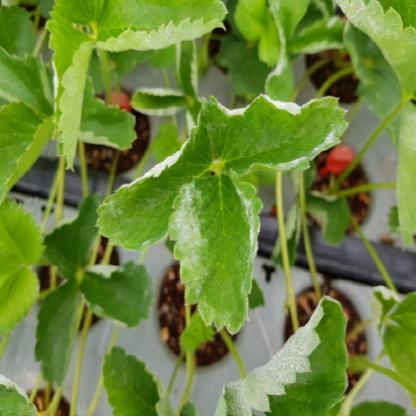Strawberry_Powdery_Mildew_Leaf: (94, 104, 216, 254), (212, 294, 350, 415), (166, 169, 264, 336), (201, 92, 350, 180), (43, 9, 95, 173), (335, 0, 415, 101), (95, 0, 230, 53), (79, 259, 154, 327), (0, 373, 39, 415), (130, 88, 188, 116), (371, 285, 400, 336), (174, 39, 198, 100)
